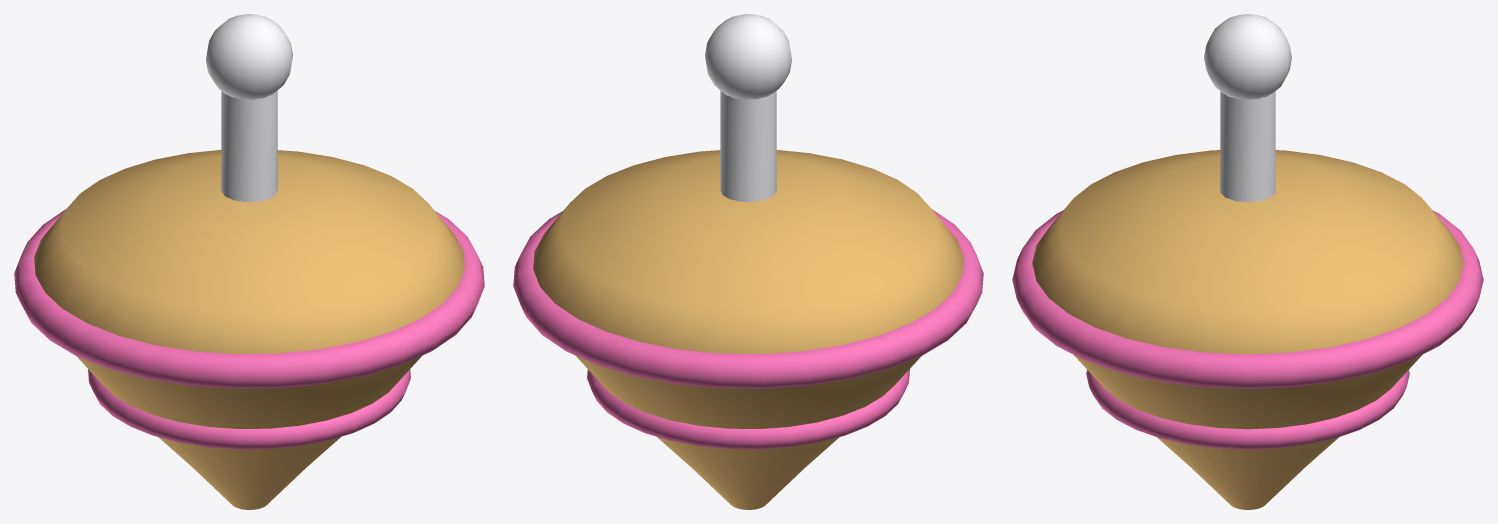
Rendered from MessyMemoryTop.obj.
3 renders of one model, left to right at view 1: azimuth 30°, elevation 25°; view 2: azimuth 150°, elevation 25°; view 3: azimuth 270°, elevation 25°, orthographic.
Parts seen in each view (by area): view 1: Body, Band, Handle; view 2: Body, Band, Handle; view 3: Body, Band, Handle.
Boxes of the visible parts, left/top/right/bottom form: Body: left=34, top=150, right=464, bottom=509; Band: left=14, top=209, right=484, bottom=449; Handle: left=206, top=14, right=292, bottom=202; Body: left=533, top=150, right=963, bottom=509; Band: left=513, top=209, right=983, bottom=449; Handle: left=705, top=14, right=791, bottom=202; Body: left=1032, top=150, right=1463, bottom=509; Band: left=1012, top=210, right=1483, bottom=449; Handle: left=1204, top=14, right=1291, bottom=202.
Bounding box in the file's own units: 1.5 × 1.72 × 1.5.
